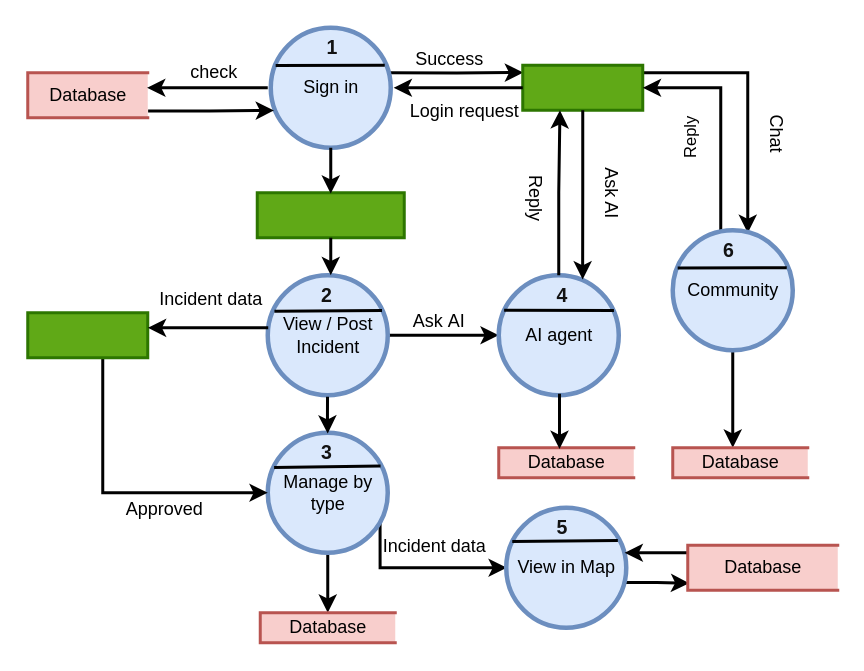
The diagram is 864 pixels wide and 671 high, and some of its shapes have lost their labels. Each missing label, with the centre of its shape:
"Administrator" belongs at pixel 87 334.
"Citizen/Profile" belongs at pixel 330 214.
"User" belongs at pixel 582 87.
